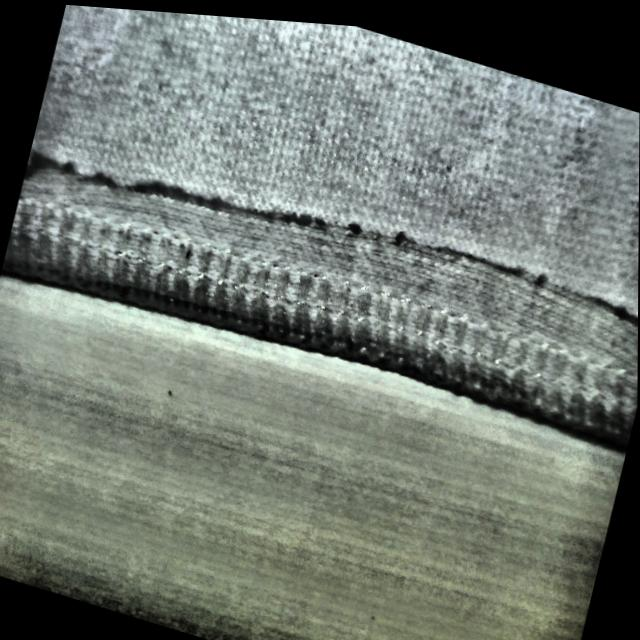seam: (1, 89, 639, 451)
